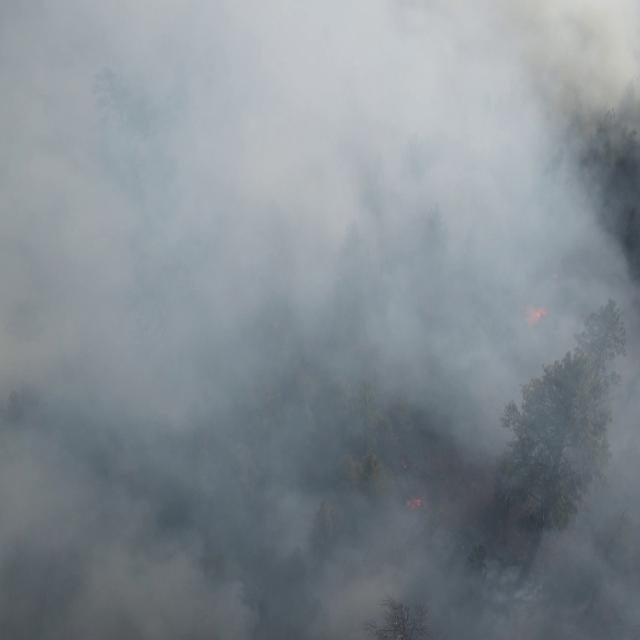fire: (526, 306, 544, 329), (400, 498, 423, 513)
smoke: (0, 0, 640, 640)
